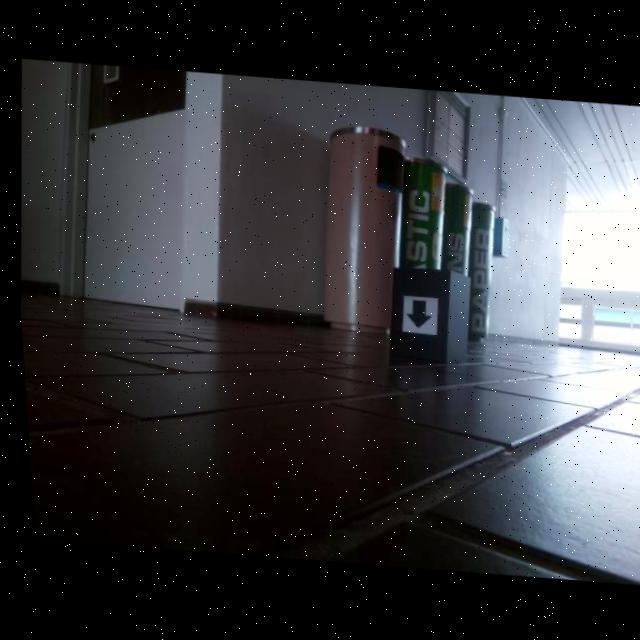DOWN: (401, 298, 428, 328)
